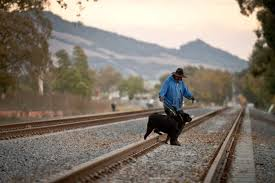crossing railway track: (148, 60, 194, 150)
